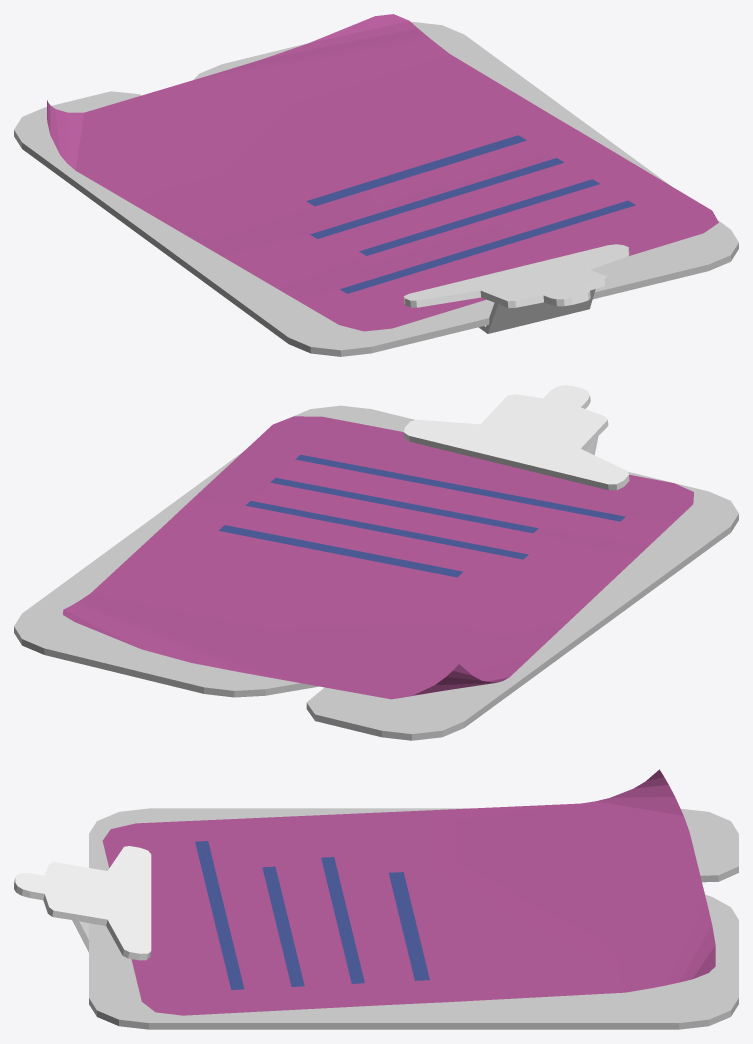
Rendered from Clipboard.fbx.
The picture shows the model from 3 angles, top to bottom: view 1: azimuth 30°, elevation 25°; view 2: azimuth 150°, elevation 25°; view 3: azimuth 270°, elevation 25°; orthographic projection.
Visible parts, largest first — view 1: Paper, Board, Clip; view 2: Paper, Board, Clip; view 3: Paper, Board, Clip.
Part boxes in pixels (<box>): Paper: <box>47,14,718,331</box>; Board: <box>14,22,738,356</box>; Clip: <box>403,244,629,333</box>; Paper: <box>63,416,693,699</box>; Board: <box>14,405,738,740</box>; Clip: <box>403,385,629,490</box>; Paper: <box>102,769,715,1015</box>; Board: <box>89,808,738,1029</box>; Clip: <box>14,846,151,960</box>.
Size of the model in its own units: 35 by 4.81 by 49.97.
